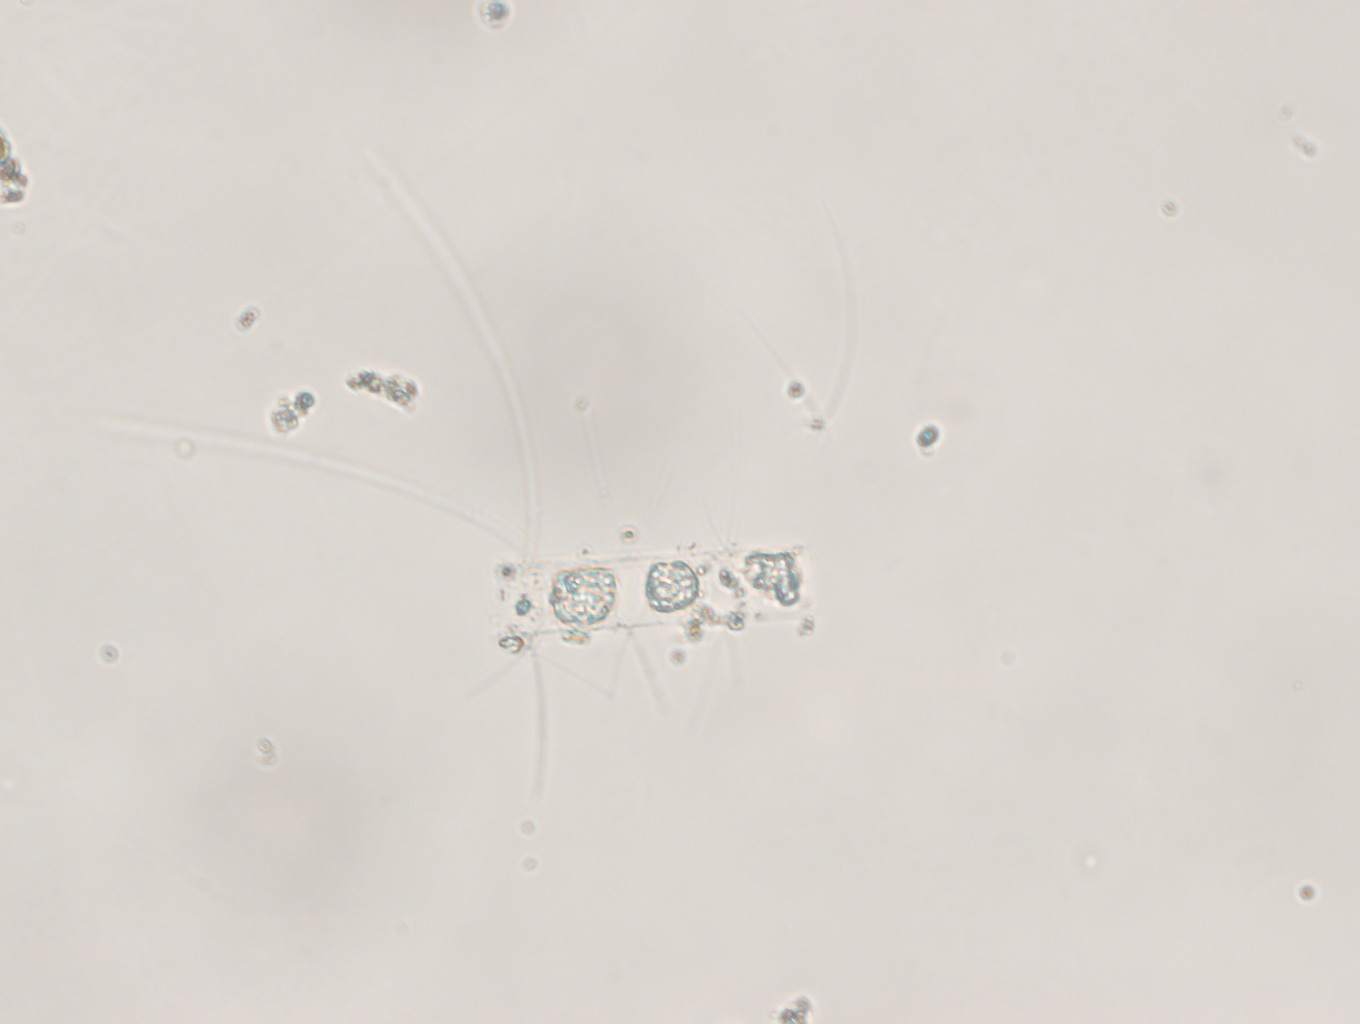chaetoceros: (469, 477, 868, 778)
